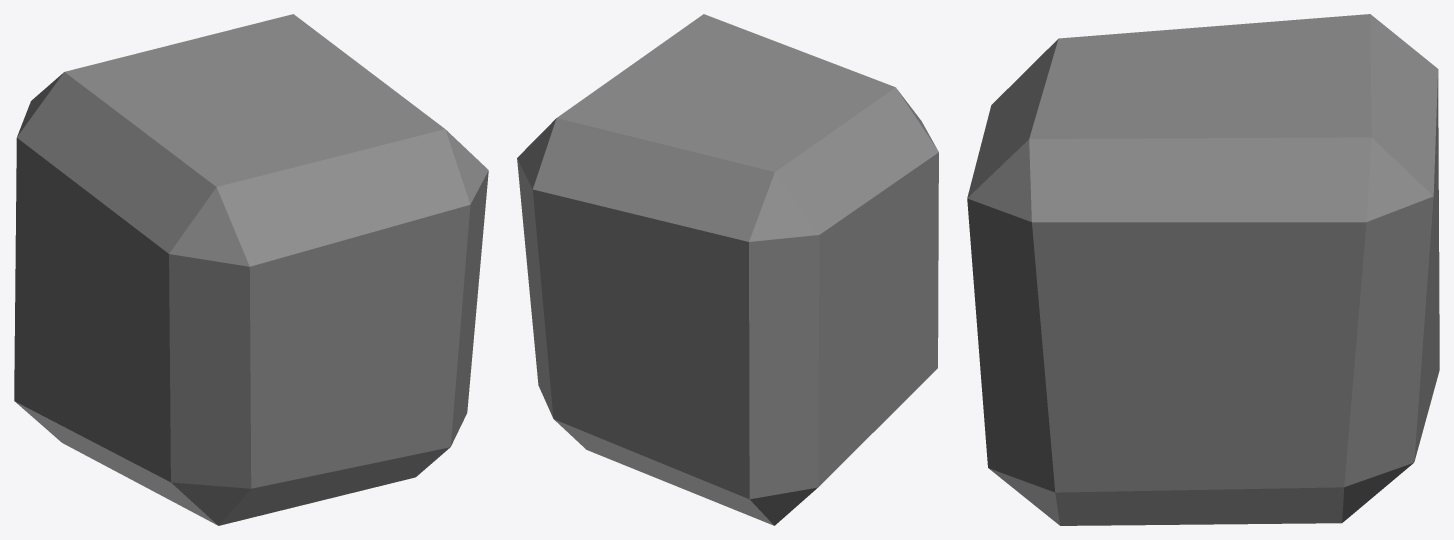
The model's file is Brick_Small_01.fbx.
3 renders of one model, left to right at view 1: azimuth 30°, elevation 25°; view 2: azimuth 150°, elevation 25°; view 3: azimuth 270°, elevation 25°, orthographic. The views are drawn at different scales.
Visible parts, largest first — view 1: Brick_Small_01; view 2: Brick_Small_01; view 3: Brick_Small_01.
Boxes of the visible parts, x1,y1,x2,y2 form: Brick_Small_01: (14, 14, 488, 525); Brick_Small_01: (517, 14, 938, 525); Brick_Small_01: (967, 14, 1439, 525).
Bounding box in the file's own units: 18.51 × 20.53 × 21.13.
